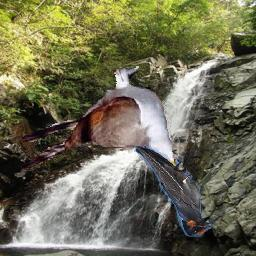Cuckoo: (23, 67, 186, 174)
Swallow: (135, 147, 212, 238)
